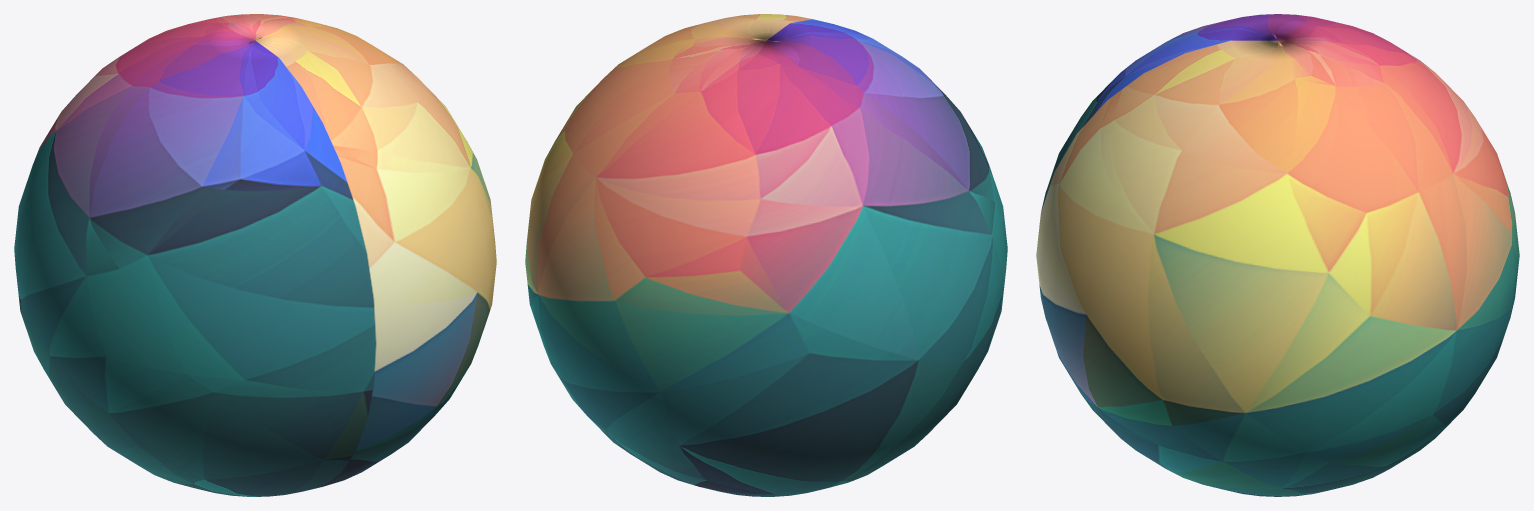
3 renders of one model, left to right at view 1: azimuth 30°, elevation 25°; view 2: azimuth 150°, elevation 25°; view 3: azimuth 270°, elevation 25°, orthographic.
Parts seen in each view (by area): view 1: sphere; view 2: sphere; view 3: sphere.
Boxes of the visible parts, box(x1,y1,x2,y2) form: sphere: box(14, 14, 496, 496); sphere: box(525, 14, 1007, 496); sphere: box(1036, 14, 1519, 496).
Size of the model in its own units: 2 by 1.96 by 2.
